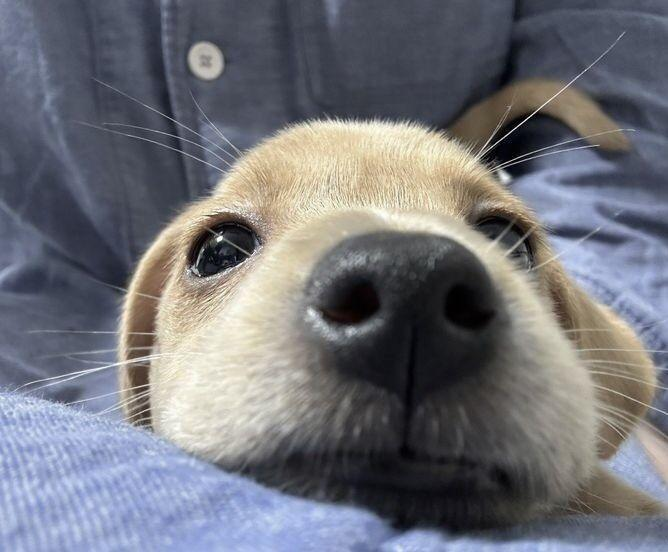puppy-dog: (116, 117, 660, 532)
